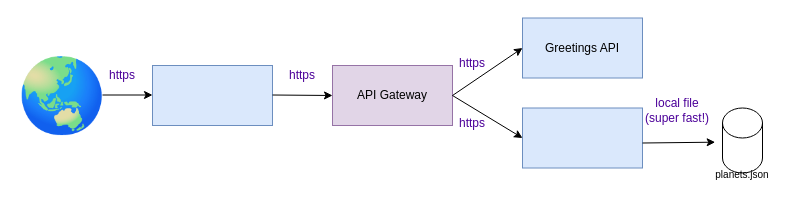
Image size: 786x213. Some labels were removed from this diagram. Each missing label, with the box of its shape:
HelloWorld Web: (152, 64, 272, 126)
Planets API: (522, 107, 642, 168)
